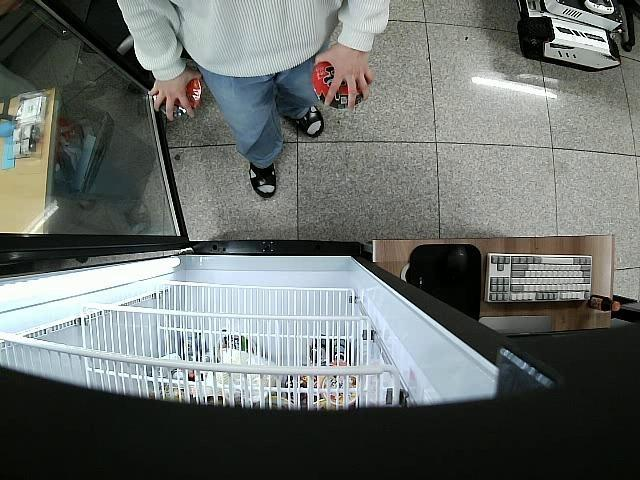01_ShinRamen_L: (314, 56, 362, 108), (150, 74, 201, 120)
